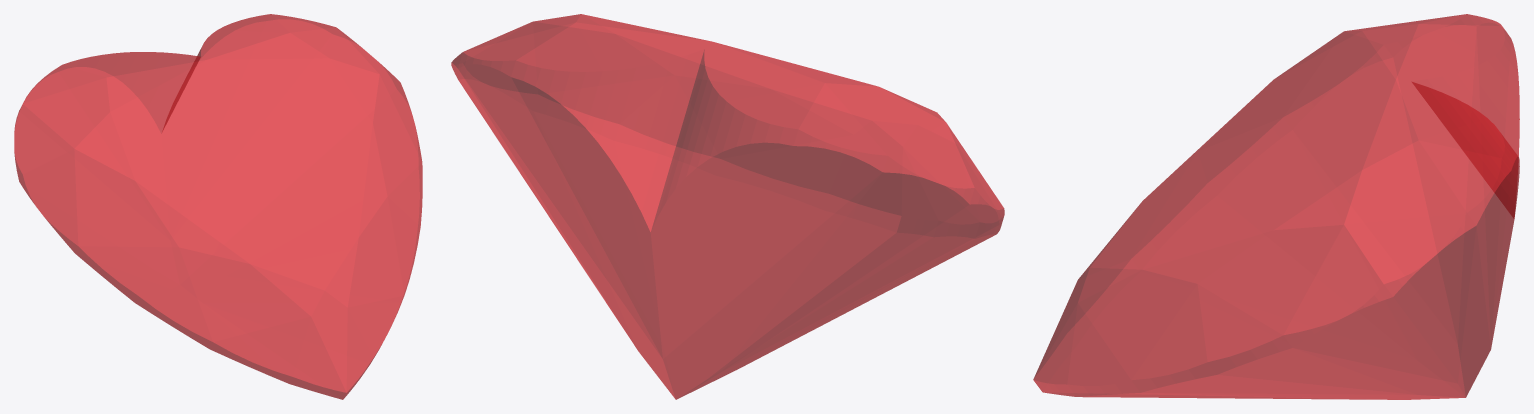
The model's file is heart.glb.
3 views of the same model, side by side, from view 1: azimuth 30°, elevation 25°; view 2: azimuth 150°, elevation 25°; view 3: azimuth 270°, elevation 25° (orthographic). The views are drawn at different scales.
Parts seen in each view (by area): view 1: Heart_1ct; view 2: Heart_1ct; view 3: Heart_1ct.
Part boxes in pixels (x1,y1,x2,y2): Heart_1ct: [14, 14, 422, 399]; Heart_1ct: [451, 14, 1004, 399]; Heart_1ct: [1033, 14, 1519, 399].
Size of the model in its own units: 6.5 by 4.04 by 5.56.
